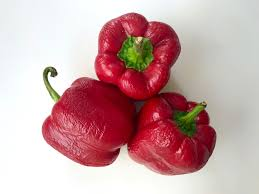bell pepper: (20, 61, 126, 171), (125, 85, 230, 178), (94, 9, 174, 98)
